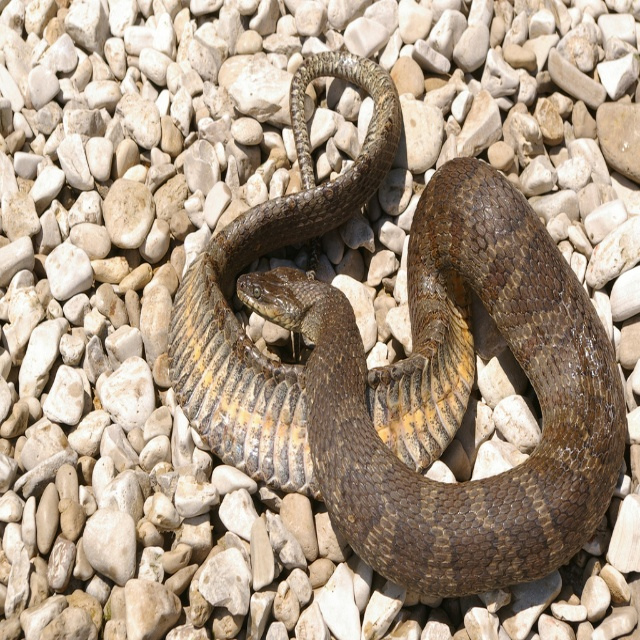Snake: (166, 55, 627, 599)
